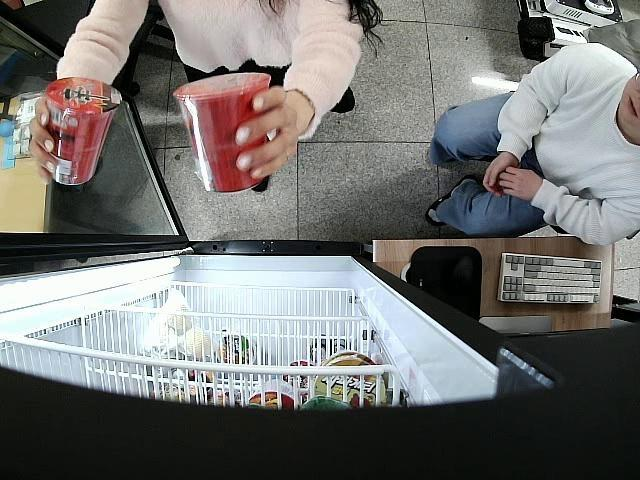02_shinRamen_S: (172, 74, 271, 192), (45, 77, 122, 186)
